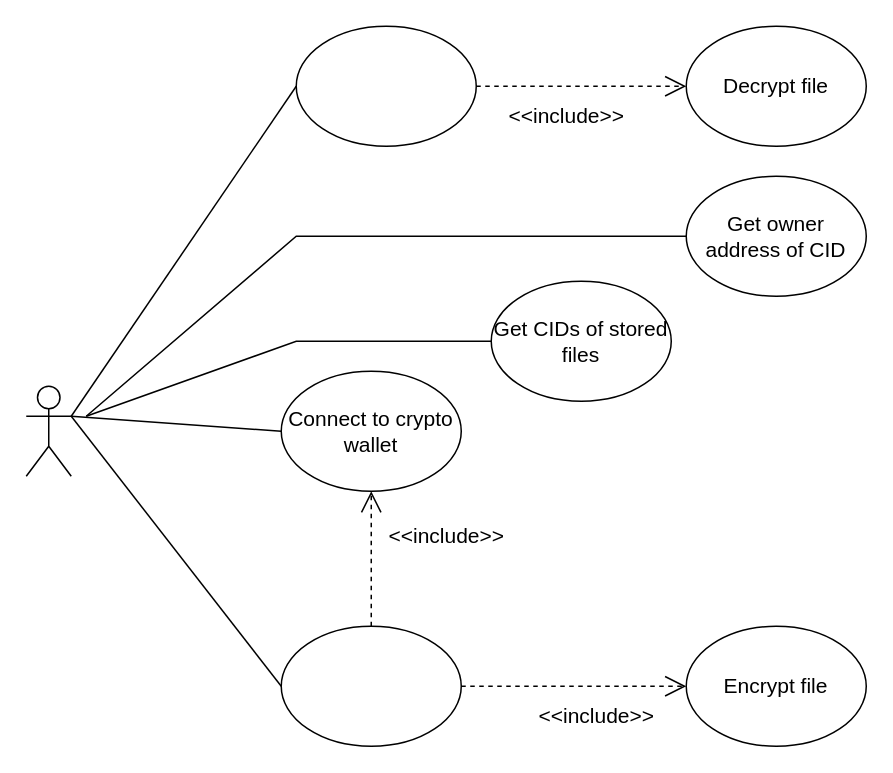
Some shapes in this 893 by 773 pixel diagram are drawn without their labels. The centre of each missing label's shape, as x and y in pixels:
"Get file by CID" belongs at (x=385, y=85).
"Store file on IPFS" belongs at (x=370, y=685).
"User" belongs at (x=48, y=430).
